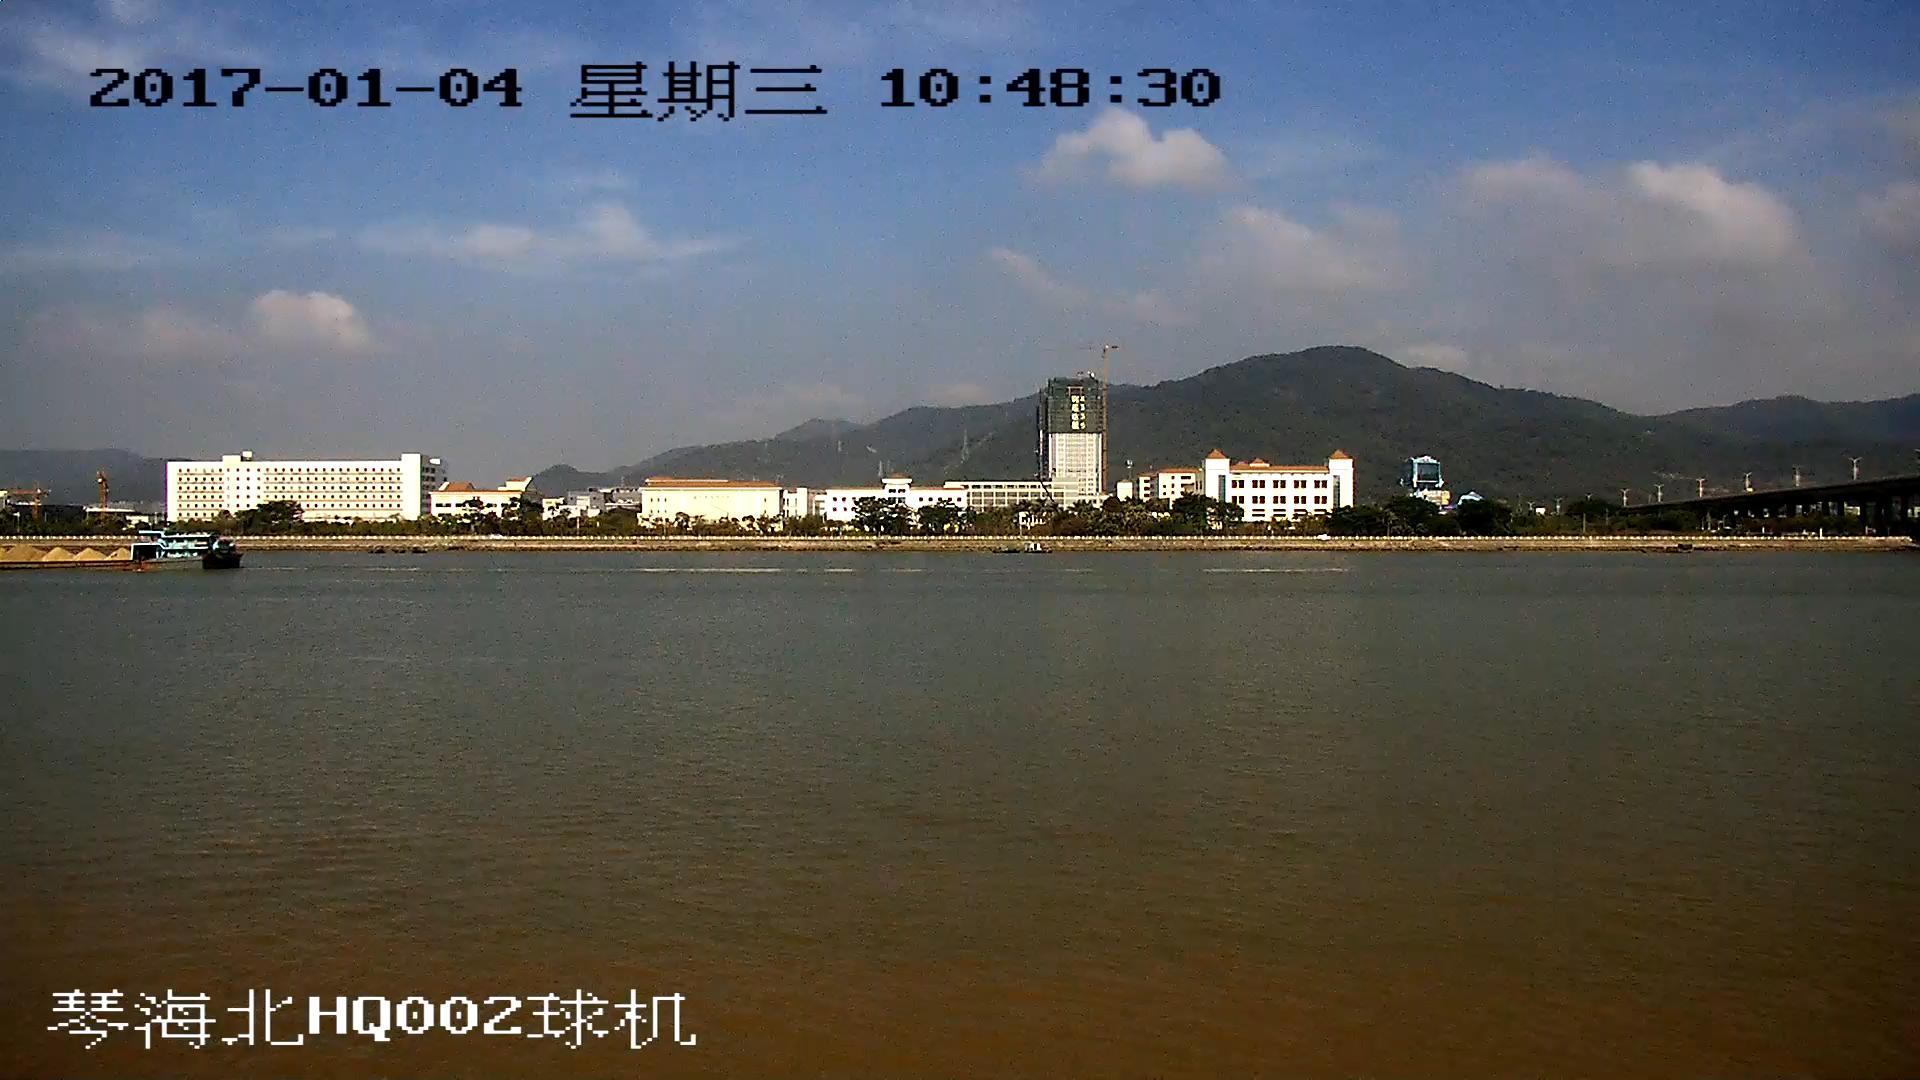Ship: (3, 534, 240, 574)
